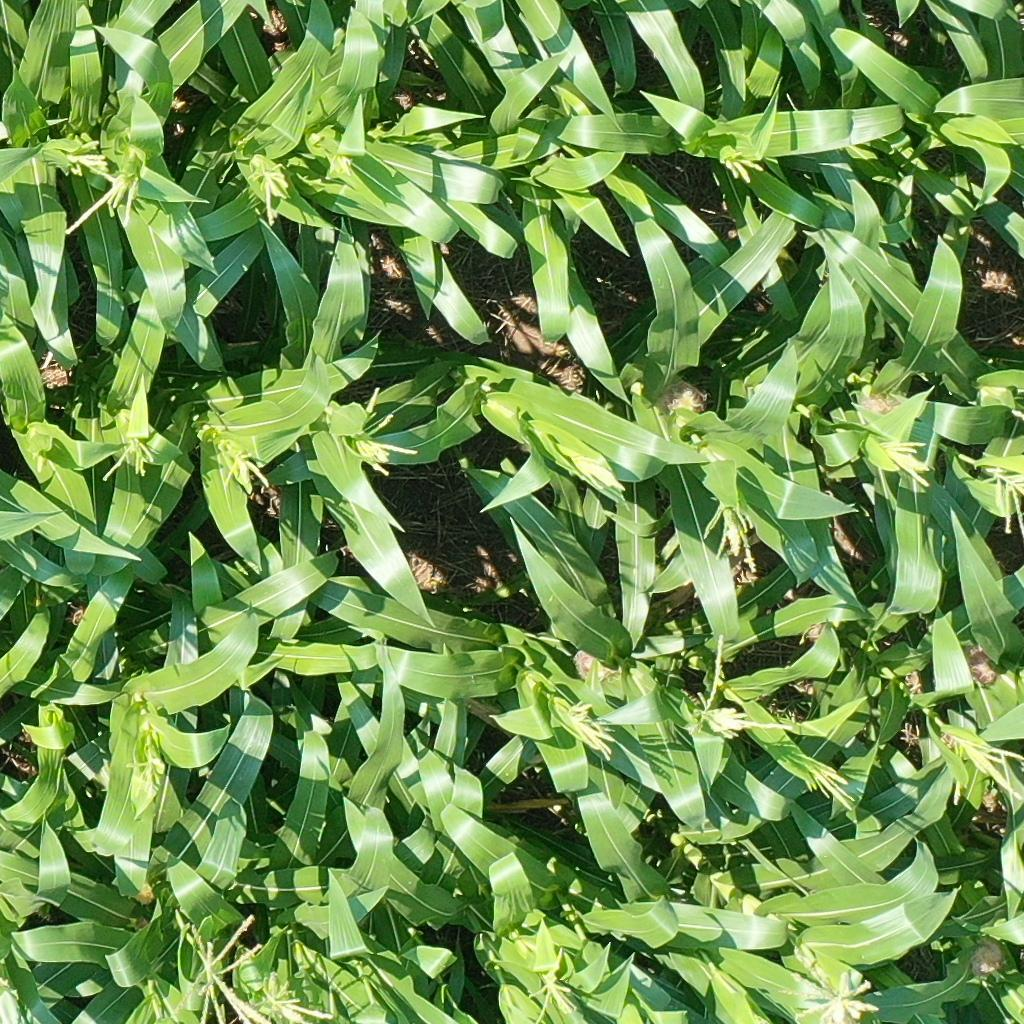Tassel: (676, 633, 793, 739), (168, 915, 275, 1024), (337, 384, 420, 481), (778, 951, 880, 1024), (941, 728, 1024, 806), (64, 174, 142, 236), (529, 945, 581, 1024), (704, 499, 761, 571), (871, 438, 936, 501), (558, 696, 619, 761), (253, 977, 335, 1024), (799, 755, 860, 812), (985, 464, 1024, 541), (248, 158, 290, 226), (100, 438, 157, 483), (222, 447, 274, 496), (124, 748, 167, 800), (573, 453, 627, 494), (64, 141, 114, 182), (720, 147, 762, 185), (328, 149, 356, 176)
